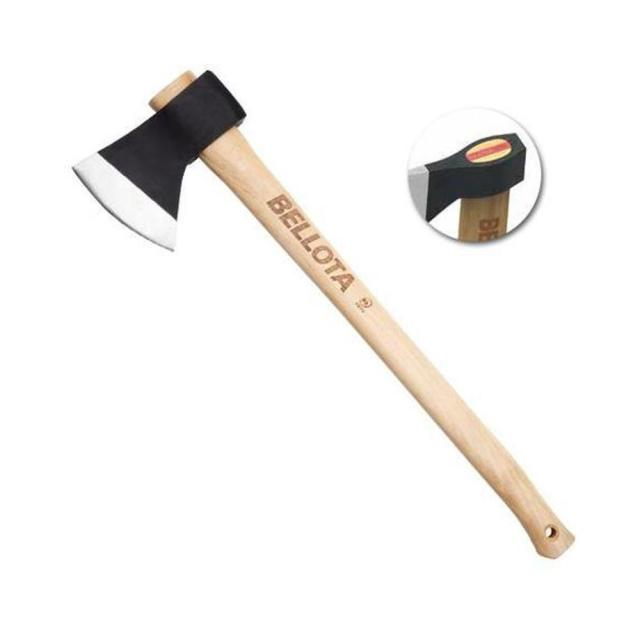Kapak: (93, 70, 589, 557)
